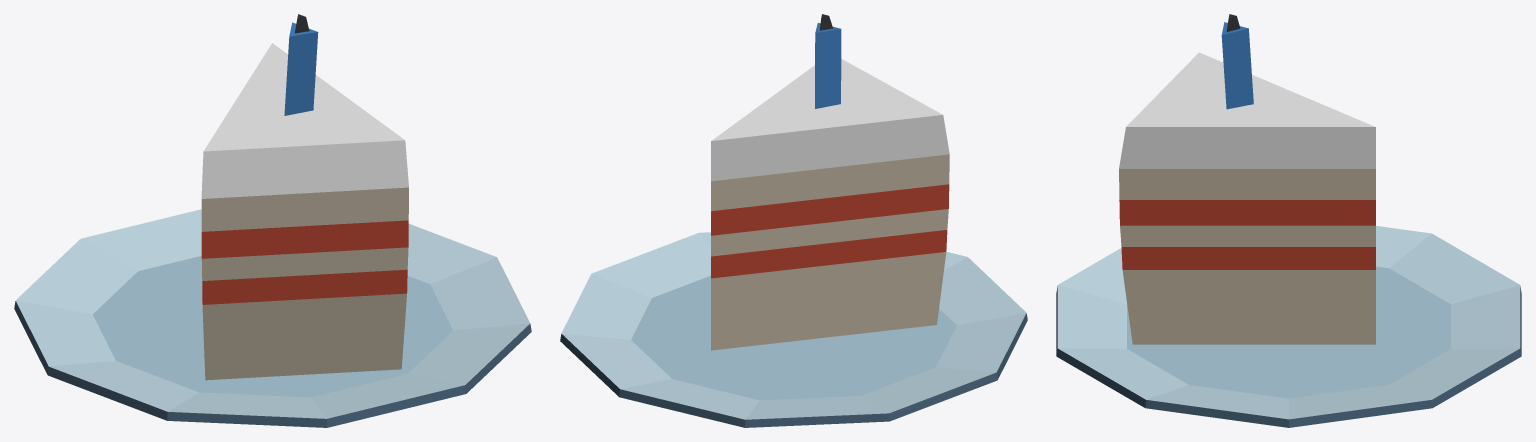
File: SM_Prop_Cake_Slice_01.fbx
The picture shows the model from 3 angles, left to right: view 1: azimuth 30°, elevation 25°; view 2: azimuth 150°, elevation 25°; view 3: azimuth 270°, elevation 25°; orthographic projection. The views are drawn at different scales.
Parts seen in each view (by area): view 1: SM_Prop_Cake_Slice_01; view 2: SM_Prop_Cake_Slice_01; view 3: SM_Prop_Cake_Slice_01.
Boxes of the visible parts, x1,y1,x2,y2 form: SM_Prop_Cake_Slice_01: (14, 14, 531, 427); SM_Prop_Cake_Slice_01: (560, 14, 1027, 427); SM_Prop_Cake_Slice_01: (1056, 14, 1521, 427).
Size of the model in its own units: 35.53 by 26.78 by 33.79.
